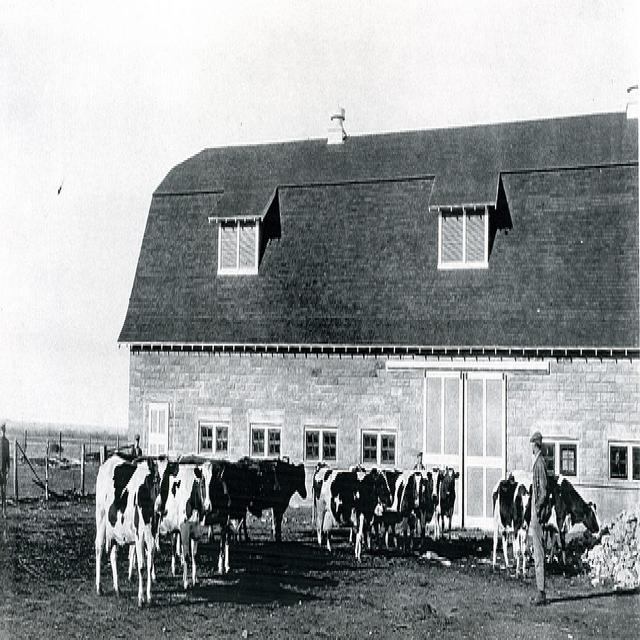cow: (92, 447, 182, 609), (190, 458, 262, 581), (158, 456, 220, 589), (308, 462, 391, 555), (237, 455, 306, 542), (542, 472, 600, 563), (490, 474, 531, 577), (372, 462, 421, 547), (406, 463, 443, 538), (440, 464, 459, 539), (125, 543, 154, 581)
